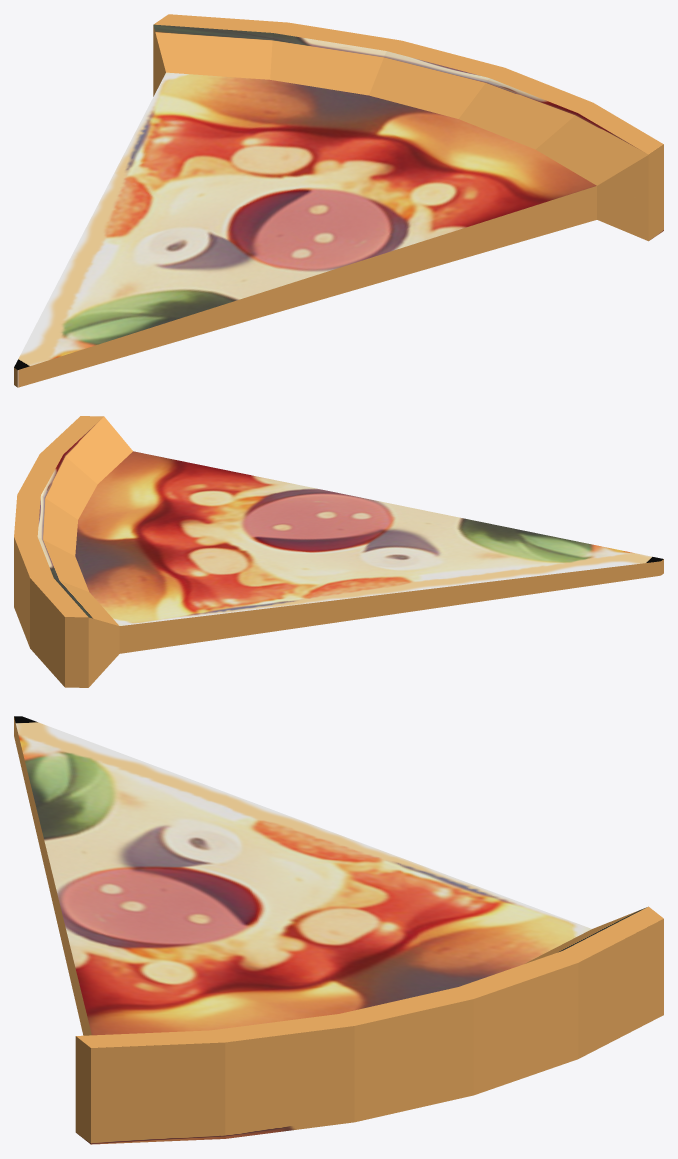
The model's file is Pizza.fbx.
3 views of the same model, one above another, from view 1: azimuth 30°, elevation 25°; view 2: azimuth 150°, elevation 25°; view 3: azimuth 270°, elevation 25° (orthographic). The views are drawn at different scales.
Visible parts, largest first — view 1: Cylinder; view 2: Cylinder; view 3: Cylinder.
Part boxes in pixels (left/top/right/bottom): Cylinder: left=14, top=14, right=663, bottom=387; Cylinder: left=14, top=416, right=663, bottom=687; Cylinder: left=14, top=716, right=663, bottom=1144.
Size of the model in its own units: 222 by 27.02 by 165.
